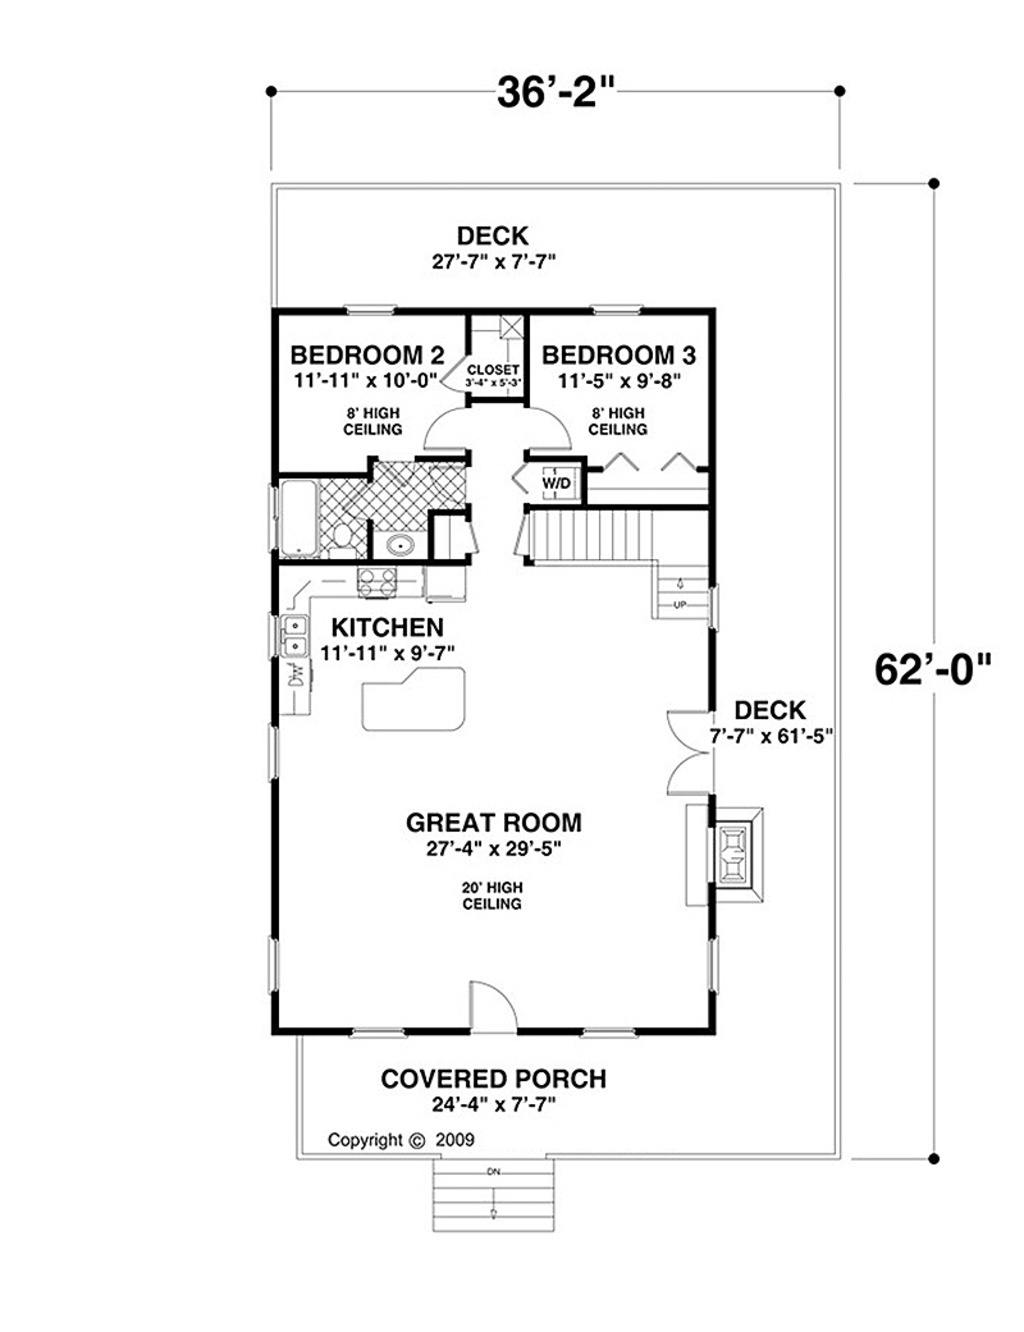door: (665, 715, 738, 814), (463, 972, 520, 1052), (413, 402, 482, 460), (527, 403, 582, 456), (442, 348, 480, 400)
large_sink: (330, 516, 365, 570)
small_sink: (380, 525, 433, 575)
stairs: (525, 506, 719, 629), (427, 1147, 582, 1241)
tub: (267, 480, 330, 561)
twin_sink: (257, 612, 336, 688)
window: (588, 295, 655, 322), (261, 722, 291, 781), (267, 933, 290, 1006), (580, 1020, 640, 1041), (707, 941, 727, 1000), (349, 1025, 409, 1041), (346, 306, 407, 314)
